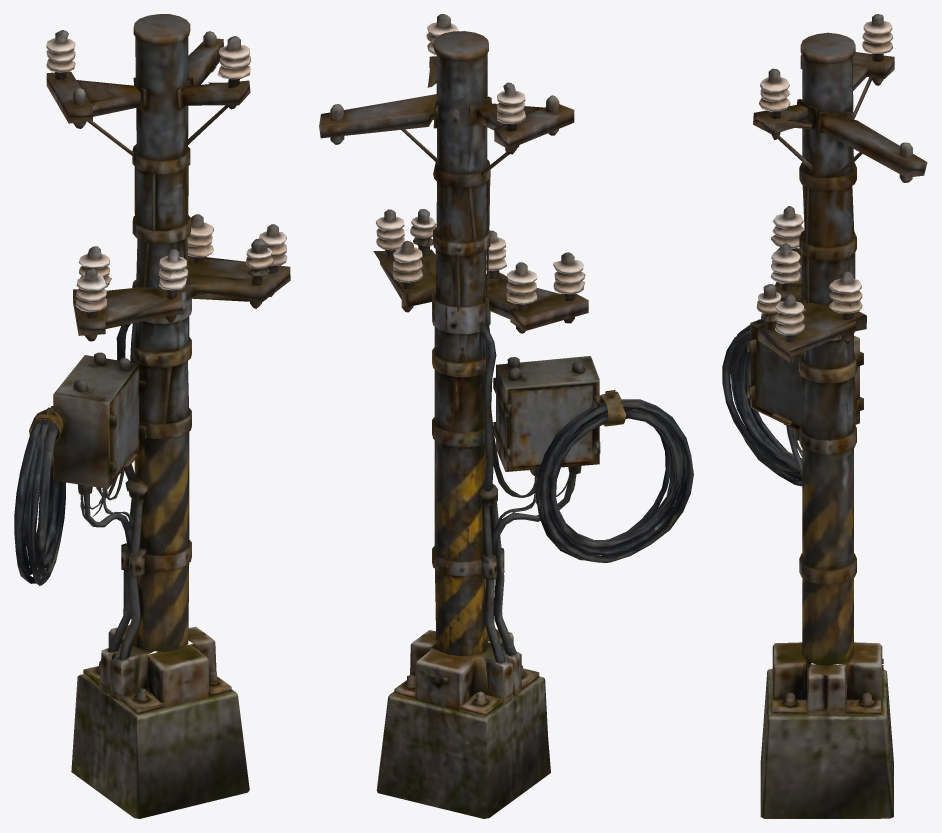
The model's file is pole.glb.
The picture shows the model from 3 angles, left to right: view 1: azimuth 30°, elevation 25°; view 2: azimuth 150°, elevation 25°; view 3: azimuth 270°, elevation 25°; orthographic projection. The views are drawn at different scales.
Parts seen in each view (by area): view 1: pole; view 2: pole; view 3: pole.
Part boxes in pixels (x1,y1,x2,y2): pole: (14, 14, 290, 818); pole: (319, 14, 693, 818); pole: (722, 14, 927, 818).
Bounding box in the file's own units: 3.34 × 8 × 1.99.
Materials: 1 (1 with a texture image).
